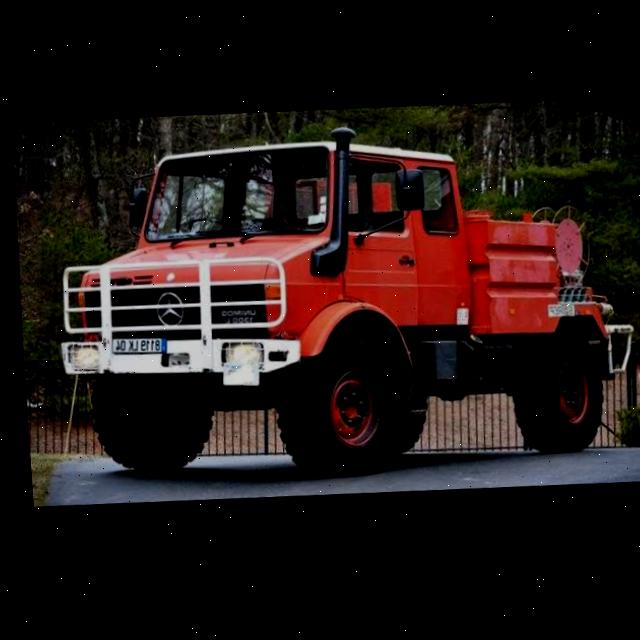emergency: (43, 112, 639, 495)
